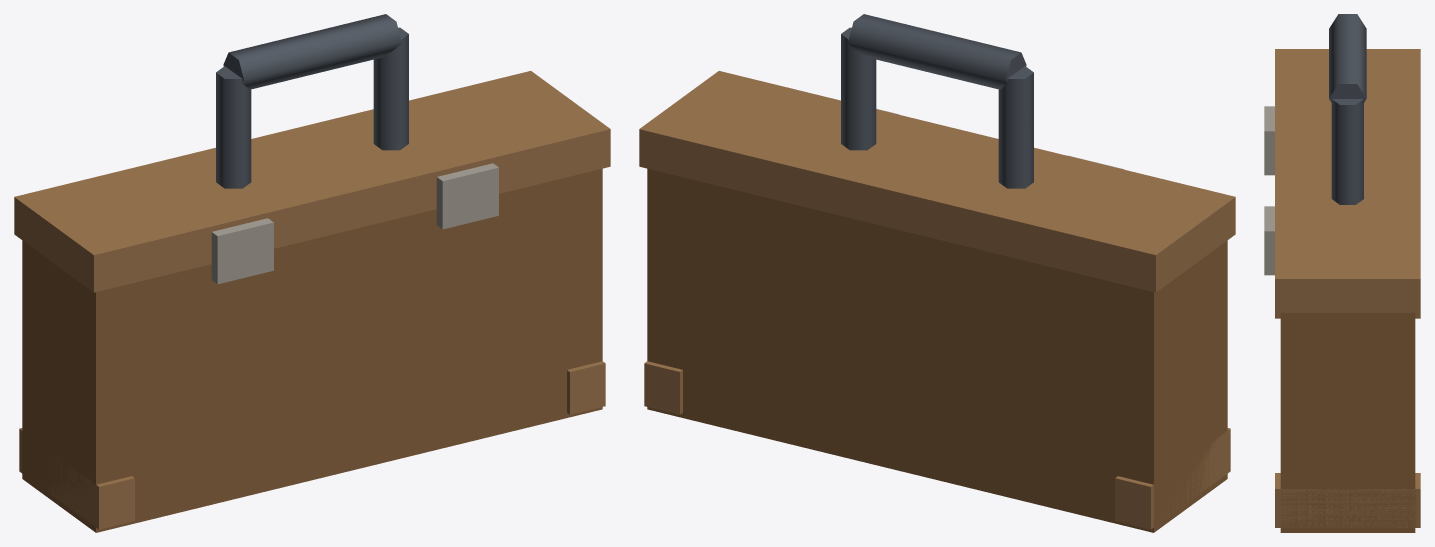
The model's file is komachi-briefcase.glb.
3 views of the same model, side by side, from view 1: azimuth 30°, elevation 25°; view 2: azimuth 150°, elevation 25°; view 3: azimuth 270°, elevation 25° (orthographic). The views are drawn at different scales.
Visible parts, largest first — view 1: Prop_Body; view 2: Prop_Body; view 3: Prop_Body.
Part boxes in pixels (left/top/right/bottom): Prop_Body: left=14, top=14, right=610, bottom=532; Prop_Body: left=639, top=14, right=1235, bottom=532; Prop_Body: left=1264, top=14, right=1420, bottom=532.
Size of the model in its own units: 0.101 by 0.076 by 0.029.
